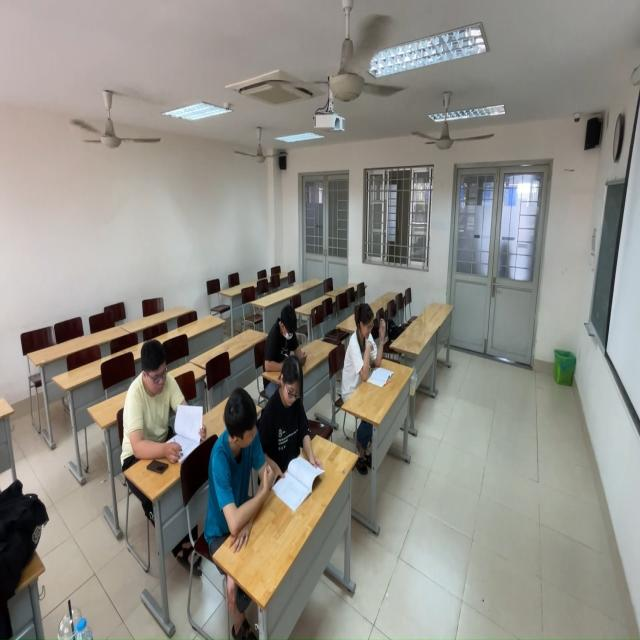read: (121, 340, 211, 472), (207, 391, 278, 557), (264, 360, 331, 511), (343, 294, 397, 404), (262, 308, 315, 375)
